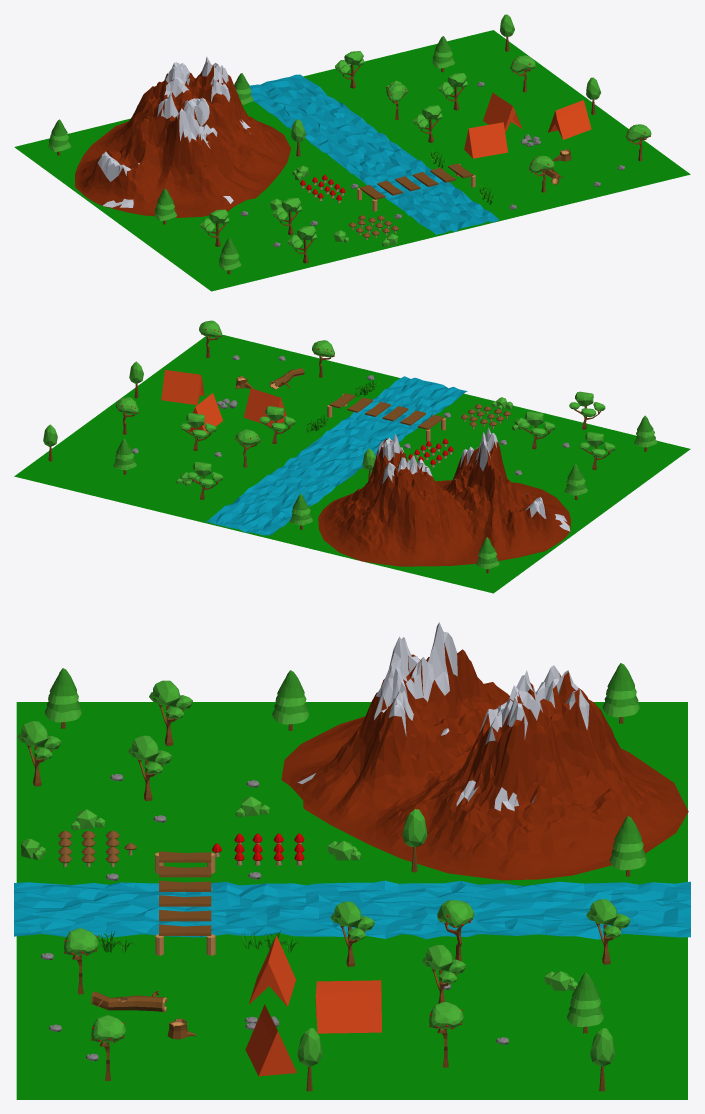
3 views of the same model, one above another, from view 1: azimuth 30°, elevation 25°; view 2: azimuth 150°, elevation 25°; view 3: azimuth 270°, elevation 25° (orthographic). The views are drawn at different scales.
Parts seen in each view (by area): view 1: Plane; view 2: Plane; view 3: Plane.
Part boxes in pixels (bbox=[...]): Plane: bbox=[14, 14, 690, 291]; Plane: bbox=[14, 320, 690, 593]; Plane: bbox=[14, 622, 690, 1099].
Size of the model in its own units: 11.85 by 2.13 by 8.52.
1 material, 1 textured.
